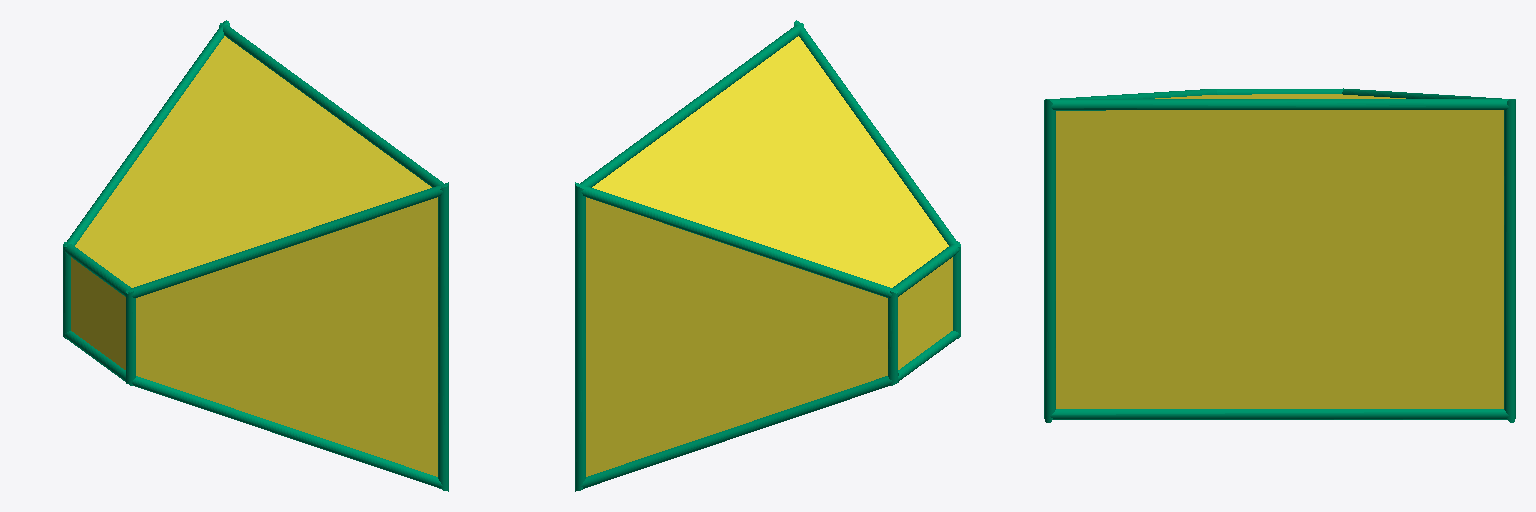
robot.urdf — localbot:
<?xml version="1.0" ?>
<!-- =================================================================================== -->
<!-- |    This document was autogenerated by xacro from localbot.urdf.xacro            | -->
<!-- |    EDITING THIS FILE BY HAND IS NOT RECOMMENDED                                 | -->
<!-- =================================================================================== -->
<robot name="localbot">
  <!--  Xacro description of turtlebot robot waffle pi used to play team hunt.-->
  <!--  [author]-->
  <!--  PARI, November 2020-->
  <!-- e.g. Red, Orange. Must exist in Gazebo/Colors and be defined in properties.xacro.-->
  <material name="orange">
    <color rgba="0.8 0.4 0.0 1.0"/>
  </material>
  <!--  <xacro:arg name="laser_visual"  default="false"/>-->
  <!--  <xacro:arg name="camera_visual" default="false"/>-->
  <!--  <xacro:arg name="imu_visual"    default="false"/>-->
  <gazebo reference="base_link">
    <!--    <material>Gazebo/DarkGrey</material>-->
    <material>Gazebo/Orange</material>
  </gazebo>
  <gazebo reference="base_link">
    <gravity>0</gravity>
    <sensor name="base_link" type="contact">
      <update_rate>1000.0</update_rate>
      <always_on>true</always_on>
      <contact>
        <collision>base_footprint_fixed_joint_lump__base_link_collision_collision</collision>
      </contact>
      <plugin filename="libgazebo_ros_bumper.so" name="base_link_contact_sensor_plugin">
        <bumperTopicName>contact</bumperTopicName>
        <frameName>world</frameName>
      </plugin>
    </sensor>
  </gazebo>
  <material name="marker_orange">
    <color rgba="0.76 0.92 0.81 1"/>
  </material>
  <link name="base_footprint"/>
  <joint name="base_joint" type="fixed">
    <parent link="base_footprint"/>
    <child link="base_link"/>
    <origin rpy="0 0 0" xyz="0.00 0.00 0.00"/>
  </joint>
  <link name="base_link">
  </link>
  <joint name="marker_joint" type="fixed">
    <parent link="base_link"/>
    <child link="marker_link"/>
    <origin rpy="1.57 0 -1.57" xyz="0.01 0.00 0.00"/>
  </joint>
  <link name="marker_link">
    <visual>
      <transparency>1</transparency>
      <geometry>
        <mesh filename="package://synfeal_bringup/camera_description/meshes/cameraicon/frustrum_frame.obj"/>
      </geometry>
    </visual>
  </link>
  <joint name="marker_inside_joint" type="fixed">
    <parent link="marker_link"/>
    <child link="marker_inside_link"/>
    <origin rpy="0 0 0" xyz="0.00 0.00 0.00"/>
  </joint>
  <link name="marker_inside_link">
    <visual>
      <transparency>1</transparency>
      <geometry>
        <mesh filename="package://synfeal_bringup/camera_description/meshes/cameraicon/frustrum.obj"/>
      </geometry>
    </visual>
  </link>
  <gazebo reference="marker_link">
    <material>Gazebo/BlackTransparent</material>
  </gazebo>
  <gazebo reference="marker_inside_link">
    <material>Gazebo/GreyTransparent</material>
  </gazebo>
  <joint name="kinect_joint" type="fixed">
    <origin rpy="0 0.0 0" xyz="0.00 0.00 0.00"/>
    <parent link="base_link"/>
    <child link="kinect_link"/>
  </joint>
  <link name="kinect_link">
    <inertial>
      <mass value="0.01"/>
      <origin xyz="0 0 0"/>
      <inertia ixx="4.9000000000000005e-06" ixy="0.0" ixz="0.0" iyy="4.9000000000000005e-06" iyz="0.0" izz="4.9000000000000005e-06"/>
    </inertial>
    <visual>
      <origin rpy="0 0 0" xyz="0 0 0"/>
      <geometry>
        <mesh filename="package://hector_sensors_description/meshes/kinect_camera/kinect_camera_simple.dae"/>
      </geometry>
      <material name="orange"/>
    </visual>
    <collision>
      <origin rpy="0 0 0" xyz="0 0 0"/>
      <geometry>
        <mesh filename="package://hector_sensors_description/meshes/kinect_camera/kinect_camera_simple.stl"/>
      </geometry>
    </collision>
  </link>
  <joint name="kinect_depth_joint" type="fixed">
    <origin rpy="0 0 0" xyz="0.0 -0.02 0.0"/>
    <parent link="kinect_link"/>
    <child link="kinect_depth_frame"/>
  </joint>
  <link name="kinect_depth_frame"/>
  <joint name="kinect_depth_optical_joint" type="fixed">
    <origin rpy="-1.570796326795 0.0 -1.570796326795" xyz="0 0 0"/>
    <parent link="kinect_depth_frame"/>
    <child link="kinect_depth_optical_frame"/>
  </joint>
  <link name="kinect_depth_optical_frame"/>
  <joint name="kinect_rgb_joint" type="fixed">
    <origin rpy="0 0 0" xyz="0.0 -0.0125 0.0"/>
    <parent link="kinect_link"/>
    <child link="kinect_rgb_frame"/>
  </joint>
  <link name="kinect_rgb_frame"/>
  <joint name="kinect_rgb_optical_joint" type="fixed">
    <origin rpy="-1.570796326795 0.0 -1.570796326795" xyz="0 0 0"/>
    <parent link="kinect_rgb_frame"/>
    <child link="kinect_rgb_optical_frame"/>
  </joint>
  <link name="kinect_rgb_optical_frame"/>
  <gazebo reference="kinect_depth_frame">
    <sensor name="kinect" type="depth">
      <update_rate>20</update_rate>
      <camera>
        <horizontal_fov>1.0471975511965976</horizontal_fov>
        <image>
          <format>B8G8R8</format>
          <width>640</width>
          <height>480</height>
        </image>
        <clip>
          <near>0.10</near>
          <far>15.0</far>
        </clip>
      </camera>
      <plugin filename="libgazebo_ros_openni_kinect.so" name="kinect_camera_controller">
        <imageTopicName>null</imageTopicName>
        <cameraInfoTopicName>null/camera_info</cameraInfoTopicName>
        <depthImageTopicName>kinect/depth/image_raw</depthImageTopicName>
        <depthImageCameraInfoTopicName>kinect/depth/camera_info</depthImageCameraInfoTopicName>
        <pointCloudTopicName>kinect/depth/points</pointCloudTopicName>
        <frameName>kinect_depth_optical_frame</frameName>
      </plugin>
    </sensor>
  </gazebo>
  <gazebo reference="kinect_rgb_frame">
    <sensor name="kinect" type="camera">
      <update_rate>20.0</update_rate>
      <camera>
        <!--                    <pose>0 0 0 ${M_PI/2} ${-M_PI/2} 0</pose>-->
        <horizontal_fov>1.0471975511965976</horizontal_fov>
        <!-- <horizontal_fov>${61.81143268730981*pi/180.0}</horizontal_fov> -->
        <image>
          <format>B8G8R8</format>
          <!--                      <format>RGB_INT8</format>-->
          <width>1280</width>
          <height>1024</height>
        </image>
        <clip>
          <near>0.10</near>
          <far>15.0</far>
        </clip>
        <lens>
          <intrinsics>
            <!-- <fx>1069.12</fx> -->
            <fx>1108.509382</fx>
            <!-- <fy>1069.6</fy> -->
            <fy>1108.509382</fy>
            <cx>629.037</cx>
            <!-- <cy>502.572</cy> -->
            <cy>520.428</cy>
            <s>0</s>
          </intrinsics>
        </lens>
      </camera>
      <plugin filename="libgazebo_ros_camera.so" name="kinect}_rgb_camera_controller">
        <cameraName>kinect</cameraName>
        <alwaysOn>true</alwaysOn>
        <updateRate>20.0</updateRate>
        <imageTopicName>rgb/image_raw</imageTopicName>
        <!--                    <depthImageTopicName>depth/image_raw</depthImageTopicName>-->
        <!--                    <pointCloudTopicName>depth/points</pointCloudTopicName>-->
        <cameraInfoTopicName>rgb/camera_info</cameraInfoTopicName>
        <!--                    <depthImageCameraInfoTopicName>depth/camera_info</depthImageCameraInfoTopicName>-->
        <!--                    <frameName>${prefix}_depth_optical_frame</frameName>-->
        <frameName>_rgb_optical_frame</frameName>
        <!--                  <frameName>${prefix}_link</frameName>-->
        <!-- Apparently this is not used-->
        <!-- <baseline>0.1</baseline> -->
        <!--                  <hackBaseline>2</hackBaseline>-->
        <!-- <distortion_k1>0.0569006</distortion_k1>
                    <distortion_k2>-0.237008</distortion_k2>
                    <distortion_k3>0.242359</distortion_k3>
                    <distortion_t1>0.00037144</distortion_t1>
                    <distortion_t2>-0.00051121</distortion_t2> -->
        <distortionK1>0.0569006</distortionK1>
        <distortionK2>-0.237008</distortionK2>
        <distortionK3>0.242359</distortionK3>
        <distortionT1>0.00037144</distortionT1>
        <distortionT2>-0.00051121</distortionT2>
        <Cx>629.037</Cx>
        <Cy>520.428</Cy>
        <!-- <focalLength>1069.12</focalLength> -->
        <focalLength>1108.509382</focalLength>
        <!-- ^^^ https://github.com/ros-simulation/gazebo_ros_pkgs/blob/noetic-devel/gazebo_plugins/src/gazebo_ros_camera_utils.cpp#L517 -->
        <!--                    <pointCloudCutoff>0.4</pointCloudCutoff>-->
      </plugin>
    </sensor>
  </gazebo>
  <!-- <xacro:sensor_astra prefix="camera" parent="base_link">
    <origin xyz="0.0 0.00 0.00" rpy="0 0.0 0" />
  </xacro:sensor_astra> -->
</robot>

--- Render facts (derived) ---
Views: 3 orthographic renders of the robot side by side, from view 1: azimuth 30°, elevation 25°; view 2: azimuth 150°, elevation 25°; view 3: azimuth 270°, elevation 25°.
Model localbot with 9 links and 8 joints (8 fixed), rooted at base_footprint, posed all joints at 0.
Links seen in each view (by area): view 1: marker_inside_link, marker_link; view 2: marker_inside_link, marker_link; view 3: marker_inside_link, marker_link.
Link boxes in pixels (left/top/right/bottom): marker_inside_link: left=71, top=36, right=437, bottom=476; marker_link: left=63, top=20, right=448, bottom=491; marker_inside_link: left=586, top=36, right=952, bottom=476; marker_link: left=575, top=20, right=960, bottom=491; marker_inside_link: left=1056, top=94, right=1503, bottom=408; marker_link: left=1044, top=88, right=1515, bottom=422.
Size in the robot's own frame: 0.2604 by 0.4141 by 0.3144 metres.
2 mesh visuals loaded from 3 distinct referenced files (2 OBJ); not drawn: 1 (reference not matched to a file when rendering).
